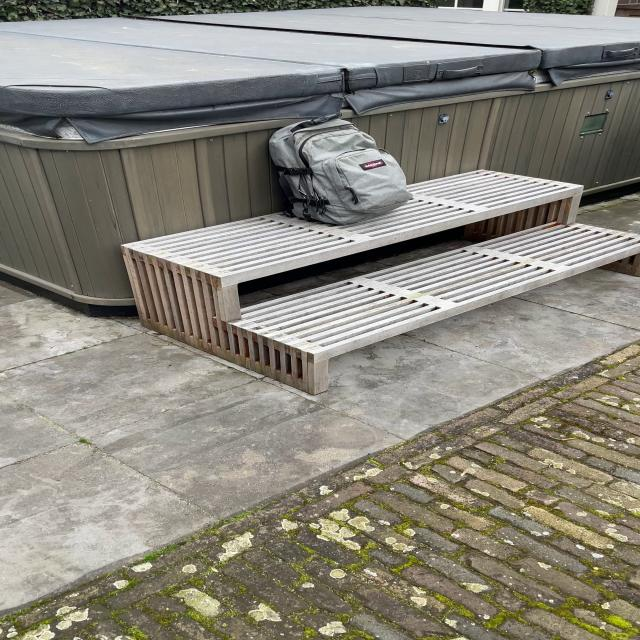backpack: (258, 112, 416, 226)
